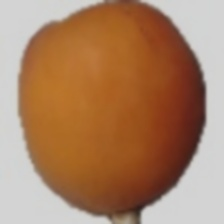apricot: (36, 30, 221, 186)
